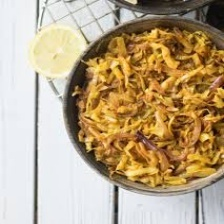sabzi: (73, 23, 224, 187)
